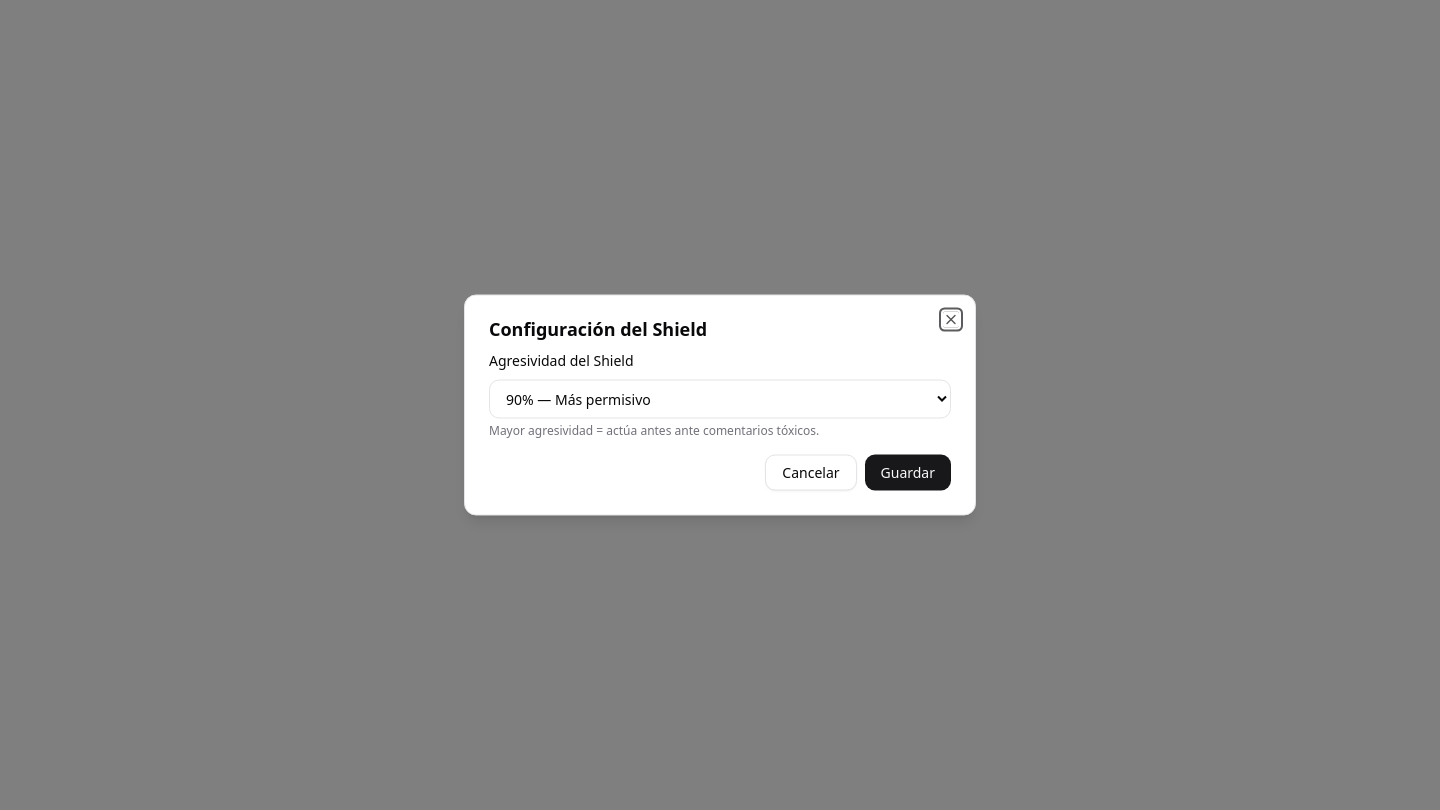
Scenario: AccountConfigModal › shows a save error without disabling the save button
Expected: the dropdown labelled "Agresividad del Shield" is shown, [489,380,951,418]
Click the button "Guardar".
click(908, 472)  # box [864,454,951,490]
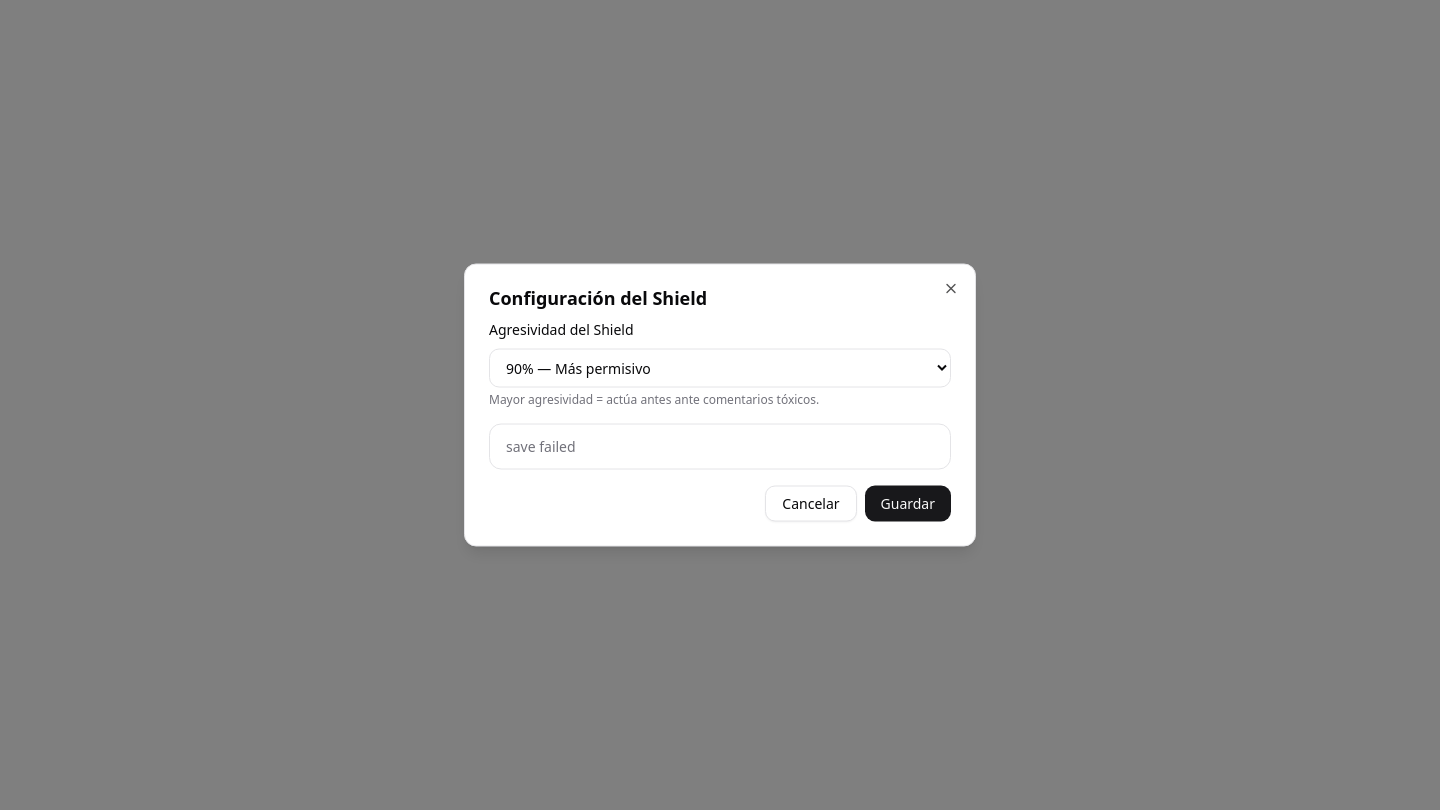
Expected: the button "Guardar" is enabled, [864,486,951,522]
Expected: the text "save failed" is shown, [506,436,576,456]
